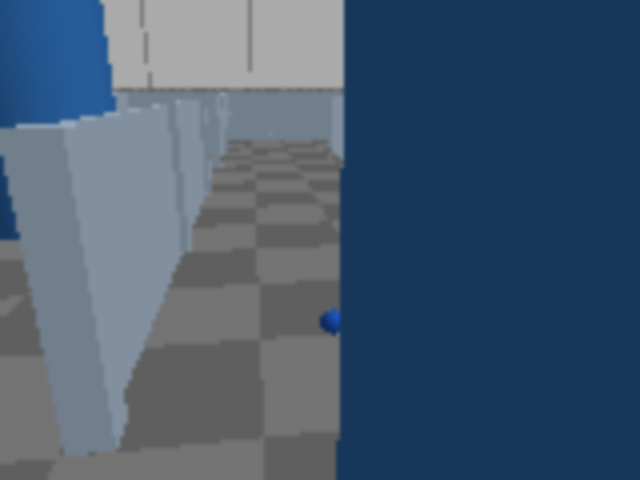puck: (317, 304, 350, 341)
traffic_light: (492, 85, 529, 152)
